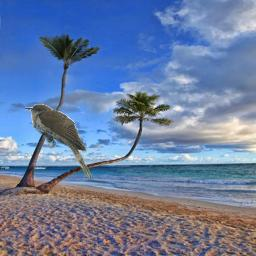Cuckoo: (25, 104, 92, 180)
